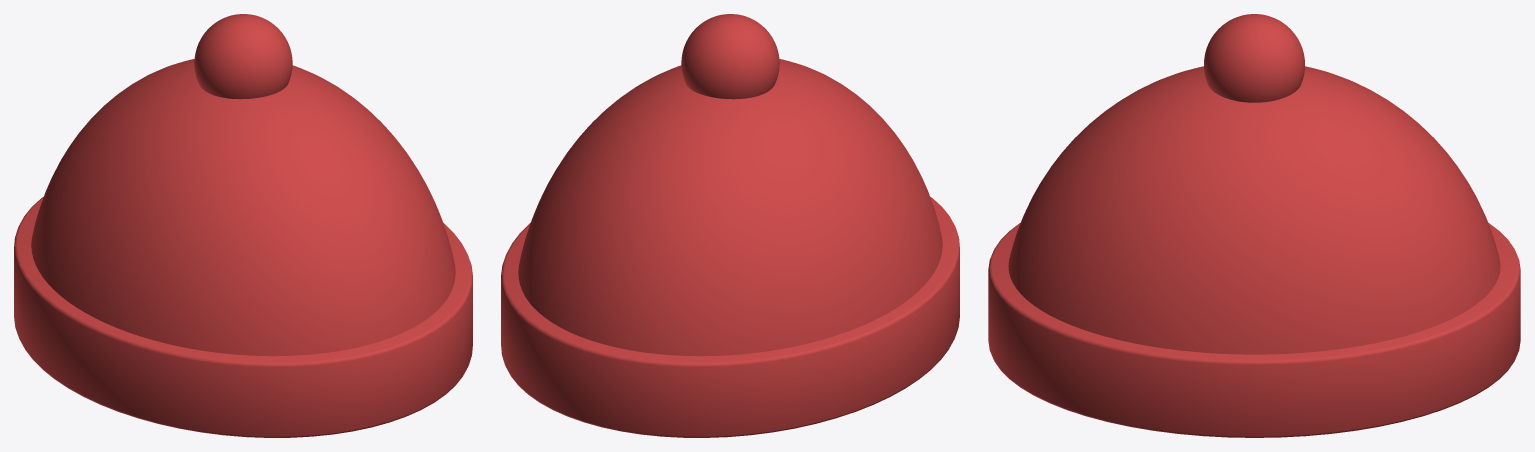
The model's file is hat_beanie.glb.
3 renders of one model, left to right at view 1: azimuth 30°, elevation 25°; view 2: azimuth 150°, elevation 25°; view 3: azimuth 270°, elevation 25°, orthographic. The views are drawn at different scales.
Visible parts, largest first — view 1: beanie; view 2: beanie; view 3: beanie.
Part boxes in pixels (left/top/right/bottom): beanie: left=14, top=14, right=472, bottom=437; beanie: left=501, top=14, right=959, bottom=437; beanie: left=988, top=14, right=1520, bottom=437.
Size of the model in its own units: 0.264 by 0.2099 by 0.3111.
